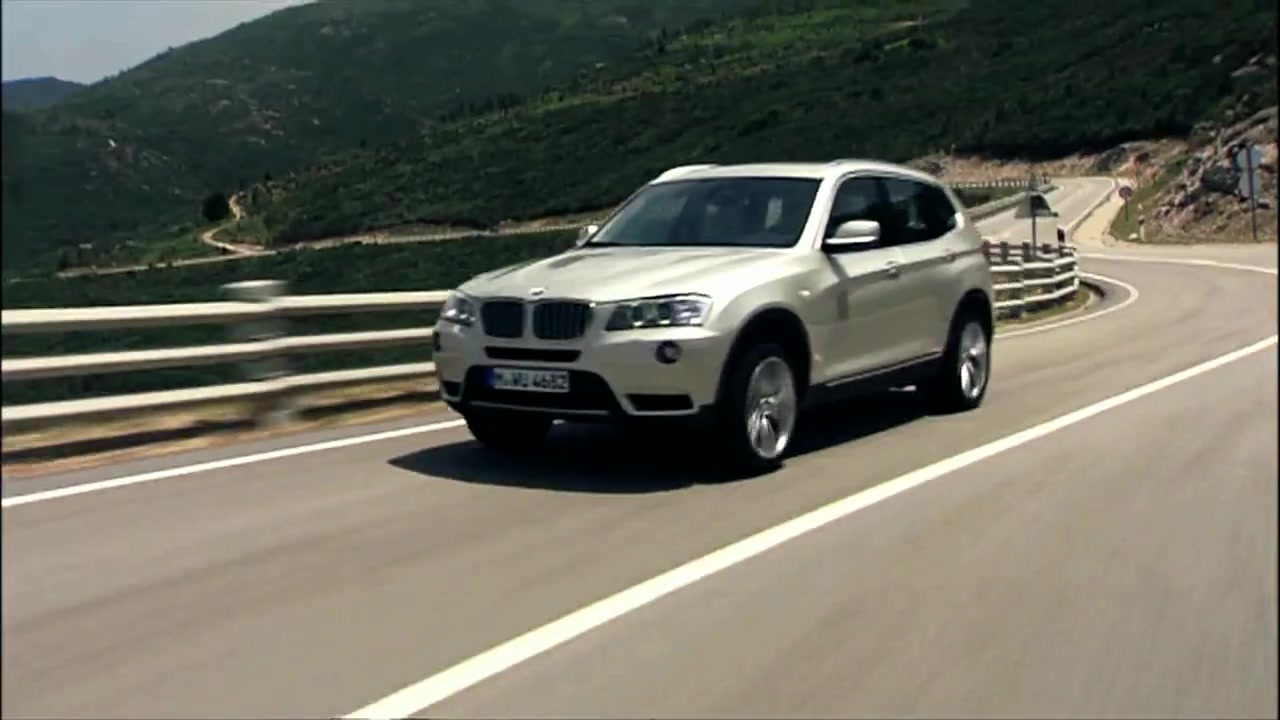car: (431, 151, 1000, 474)
